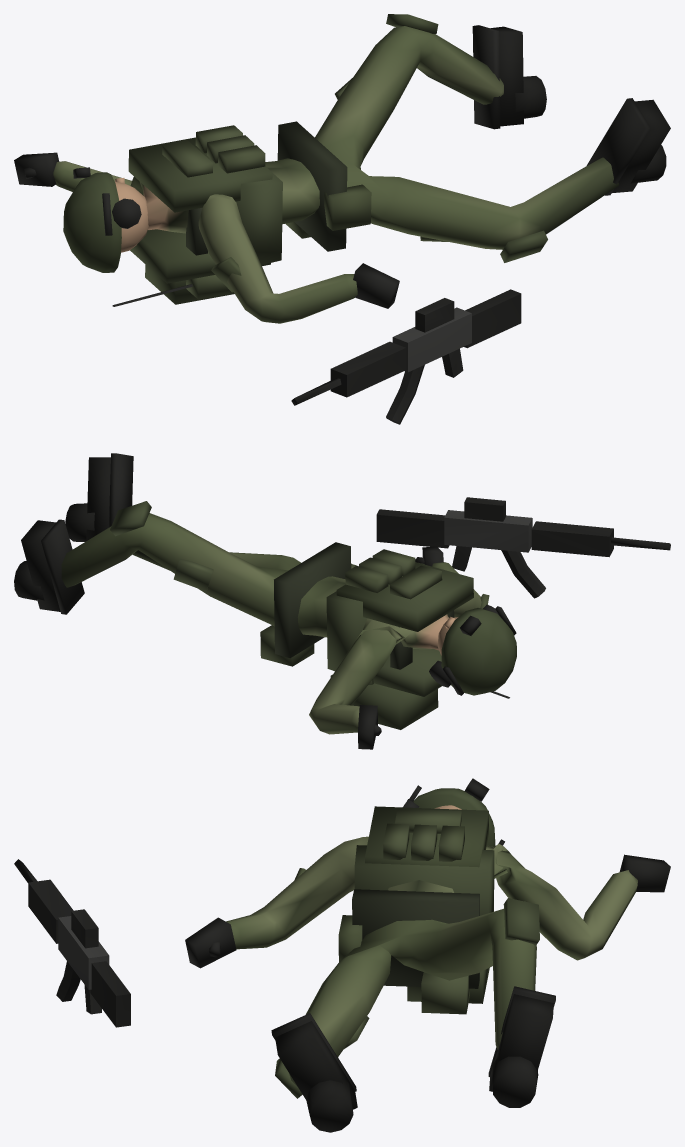
File: soldier_dead_opfor.glb
3 renders of one model, top to bottom at view 1: azimuth 30°, elevation 25°; view 2: azimuth 150°, elevation 25°; view 3: azimuth 270°, elevation 25°, orthographic. The views are drawn at different scales.
Visible parts, largest first — view 1: soldier; view 2: soldier; view 3: soldier.
Part boxes in pixels (bbox=[...]): soldier: bbox=[14, 14, 670, 424]; soldier: bbox=[14, 453, 670, 749]; soldier: bbox=[14, 778, 670, 1132].
Size of the model in its own units: 1.7 by 0.6174 by 1.69.
